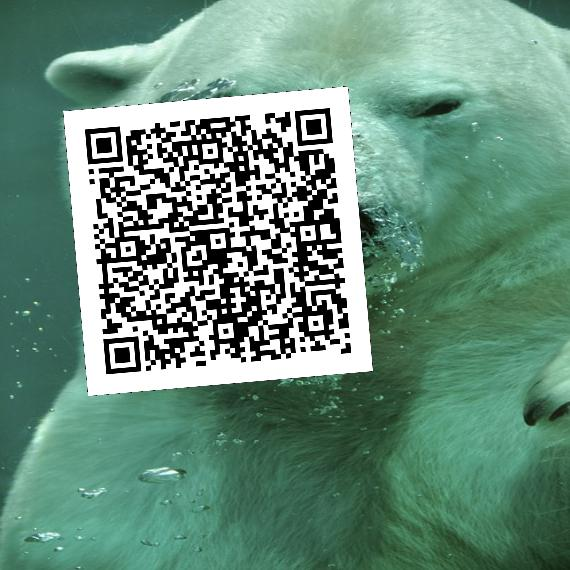qr_code: (63, 86, 372, 395)
